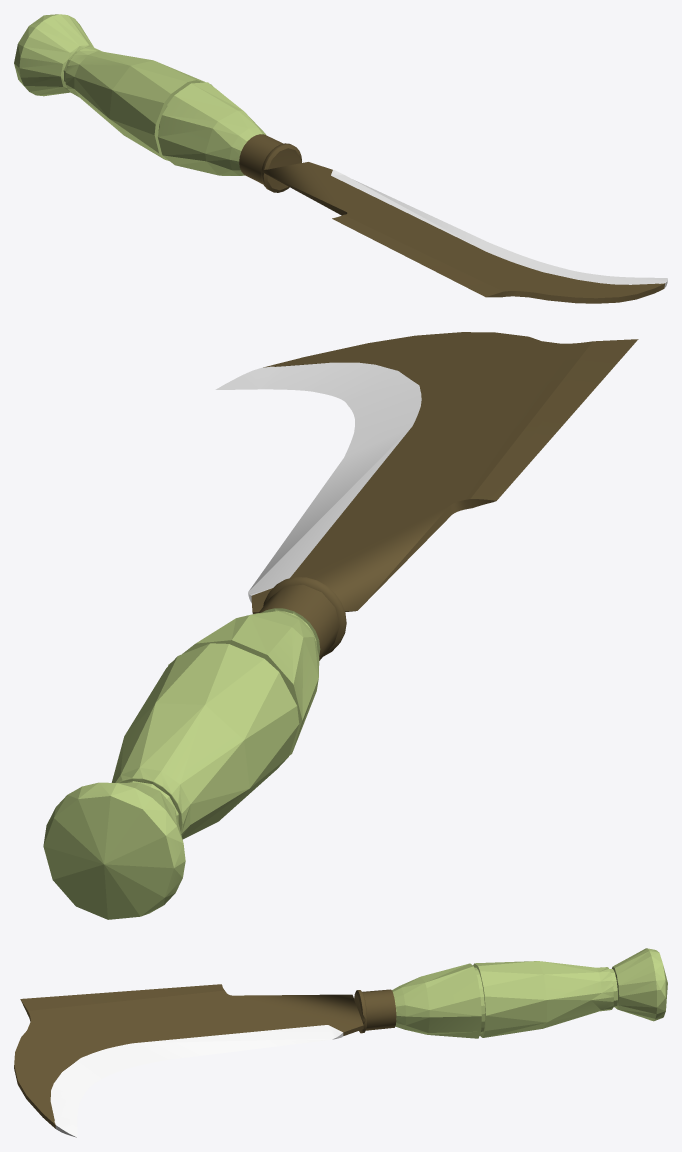
File: knife1.FBX
The picture shows the model from 3 angles, top to bottom: view 1: azimuth 30°, elevation 25°; view 2: azimuth 150°, elevation 25°; view 3: azimuth 270°, elevation 25°; orthographic projection. The views are drawn at different scales.
Visible parts, largest first — view 1: Ap3 mango2, Ap3 metal2, Ap3 metal1, Ap3 mango1, Ap3 metal3; view 2: Ap3 mango2, Ap3 metal2, Ap3 metal1, Ap3 metal3, Ap3 mango1; view 3: Ap3 mango2, Ap3 metal2, Ap3 metal1, Ap3 metal3, Ap3 mango1.
Part boxes in pixels (x1,y1,x2,y2): Ap3 mango2: [14, 14, 265, 175]; Ap3 metal2: [260, 162, 665, 303]; Ap3 metal1: [331, 170, 667, 288]; Ap3 mango1: [239, 134, 301, 192]; Ap3 metal3: [332, 215, 502, 297]; Ap3 mango2: [43, 608, 320, 919]; Ap3 metal2: [251, 332, 592, 613]; Ap3 metal1: [215, 362, 421, 603]; Ap3 metal3: [470, 339, 638, 507]; Ap3 mango1: [259, 577, 346, 660]; Ap3 mango2: [392, 948, 667, 1038]; Ap3 metal2: [14, 990, 363, 1128]; Ap3 metal1: [50, 1025, 343, 1137]; Ap3 metal3: [20, 984, 224, 1014]; Ap3 mango1: [354, 989, 396, 1033].
Size of the model in its own units: 94420 by 23846 by 199480.
